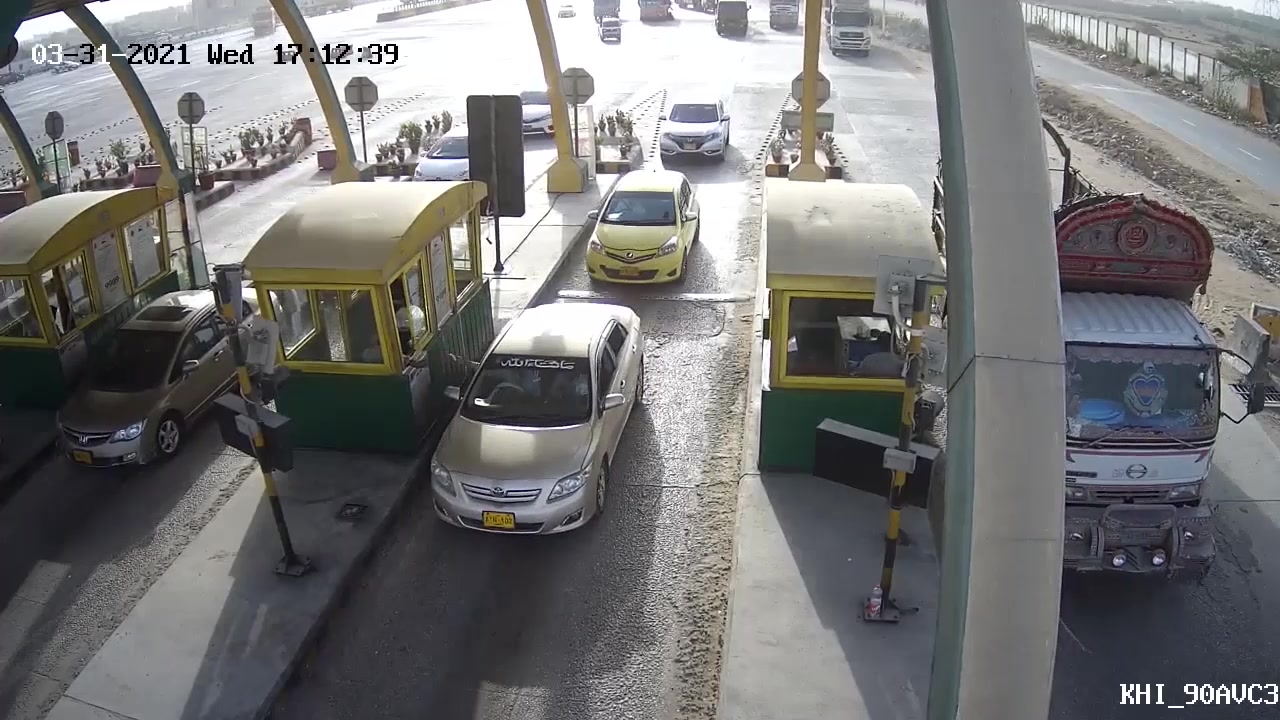F1: (429, 295, 663, 572), (578, 156, 703, 287), (652, 87, 735, 163)
